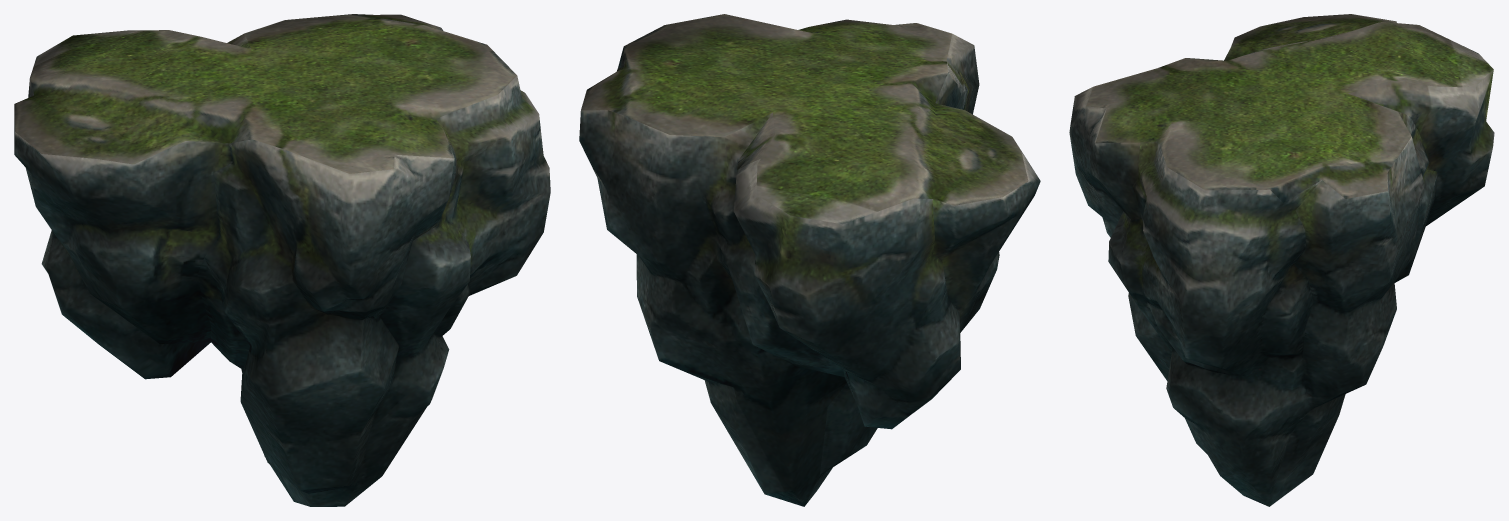
The model's file is qys_jiebian01.FBX.
3 renders of one model, left to right at view 1: azimuth 30°, elevation 25°; view 2: azimuth 150°, elevation 25°; view 3: azimuth 270°, elevation 25°, orthographic. The views are drawn at different scales.
Visible parts, largest first — view 1: qys_jiebian02; view 2: qys_jiebian02; view 3: qys_jiebian02.
Part boxes in pixels (x1=…): qys_jiebian02: x1=14, y1=14, x2=550, y2=506; qys_jiebian02: x1=579, y1=14, x2=1040, y2=506; qys_jiebian02: x1=1069, y1=14, x2=1494, y2=506.
Size of the model in its own units: 3034 by 2742 by 2697.
